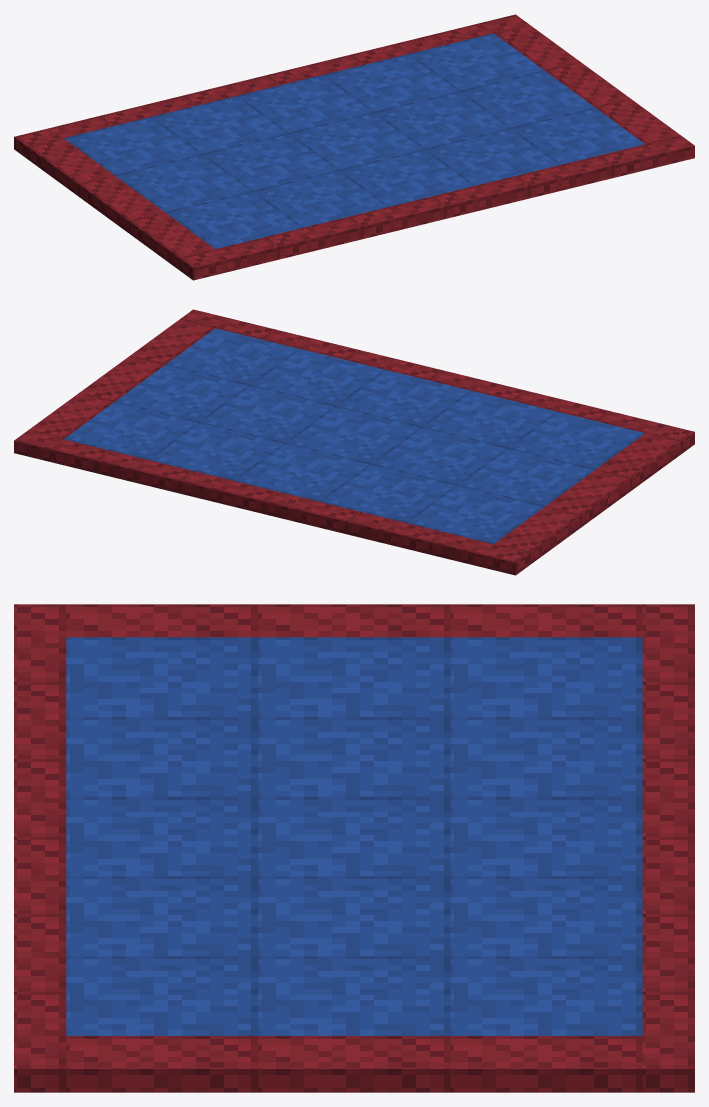
The model's file is mansionAreaRugMansion_2.glb.
3 renders of one model, top to bottom at view 1: azimuth 30°, elevation 25°; view 2: azimuth 150°, elevation 25°; view 3: azimuth 270°, elevation 25°, orthographic. The views are drawn at different scales.
Visible parts, largest first — view 1: mansionAreaRugMansion_2; view 2: mansionAreaRugMansion_2; view 3: mansionAreaRugMansion_2.
Part boxes in pixels (x1,y1,x2,y2): mansionAreaRugMansion_2: (14, 14, 694, 280); mansionAreaRugMansion_2: (14, 309, 694, 575); mansionAreaRugMansion_2: (14, 604, 694, 1092).
Bounding box in the file's own units: 2.62 × 0.0625 × 1.62.
1 material, 1 textured.
